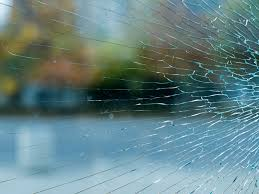crack: (18, 5, 259, 189)
